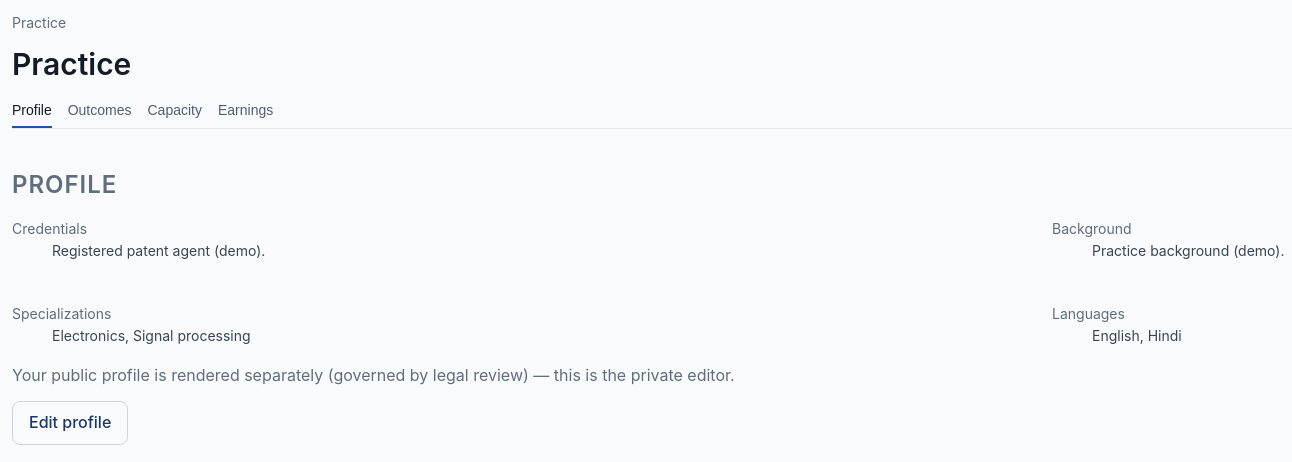
SC-A09–A12 practice › below the floor, shows "not enough data yet" instead of a statistic
What coordinates should you click on to do the following:
click the button "Outcomes"
I would click on:
 (100, 111)
Its box is [68,94,132,128].
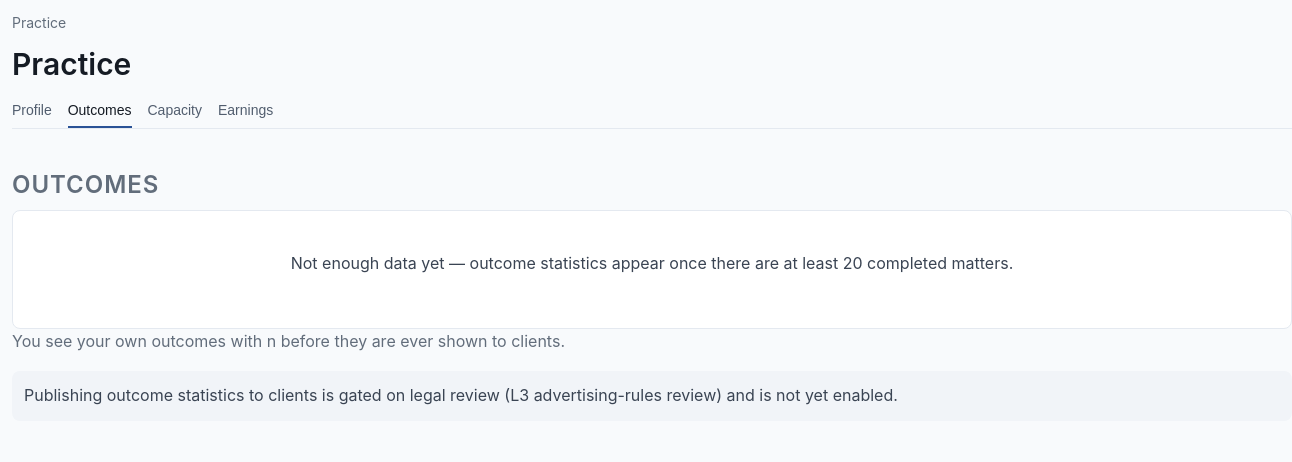
Expected: the text "Not enough data yet" is shown, [291,253,1013,273]
